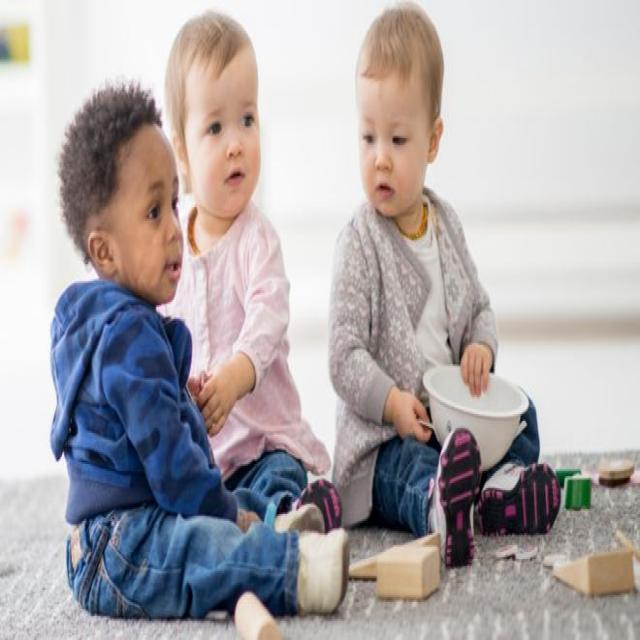non-dog: (48, 74, 351, 622), (329, 2, 563, 570), (159, 10, 331, 506)
